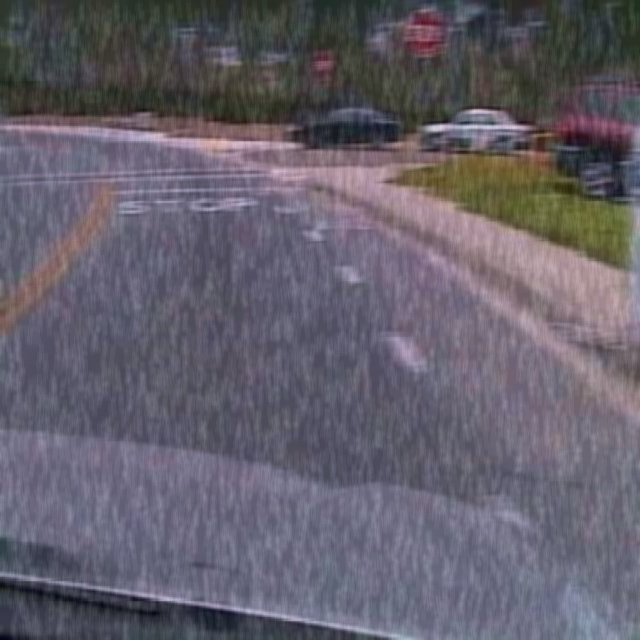stop: (406, 9, 441, 56), (314, 49, 331, 80)
